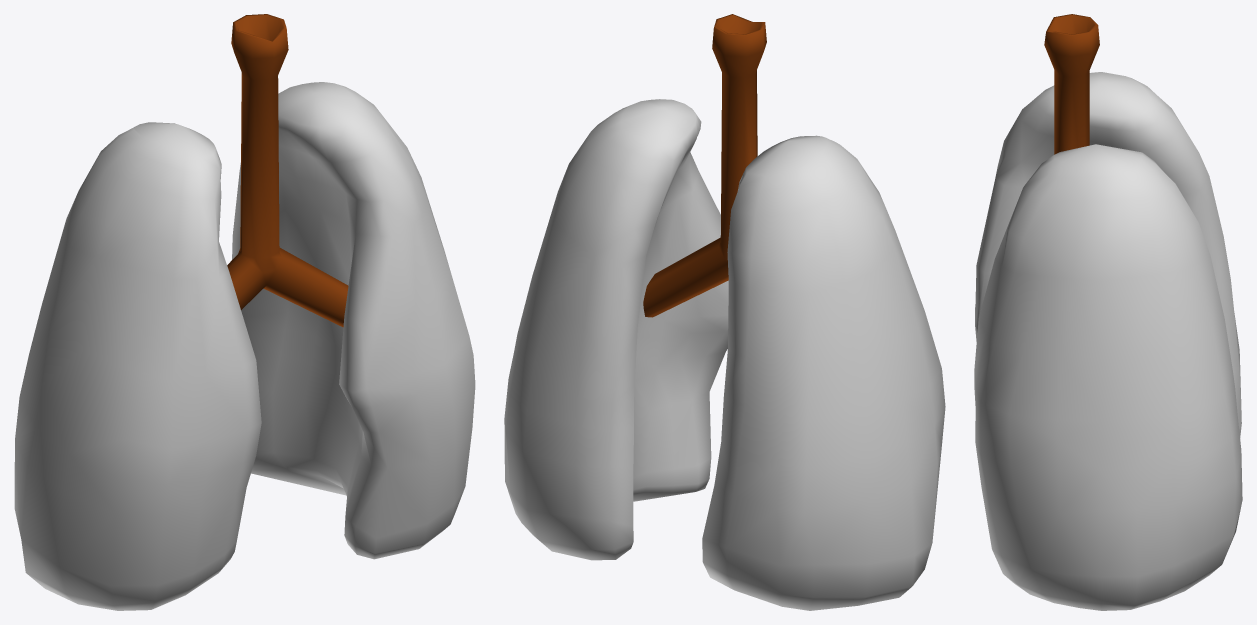
File: SM_Giblets_Lungs.FBX
3 views of the same model, side by side, from view 1: azimuth 30°, elevation 25°; view 2: azimuth 150°, elevation 25°; view 3: azimuth 270°, elevation 25° (orthographic). The views are drawn at different scales.
Parts seen in each view (by area): view 1: Lungs; view 2: Lungs; view 3: Lungs.
Boxes of the visible parts, x1,y1,x2,y2 form: Lungs: (14,14,475,610); Lungs: (504,14,945,610); Lungs: (974,14,1242,610).
Size of what is drawn, in the model's own units: 39.5 by 48.27 by 23.13.
